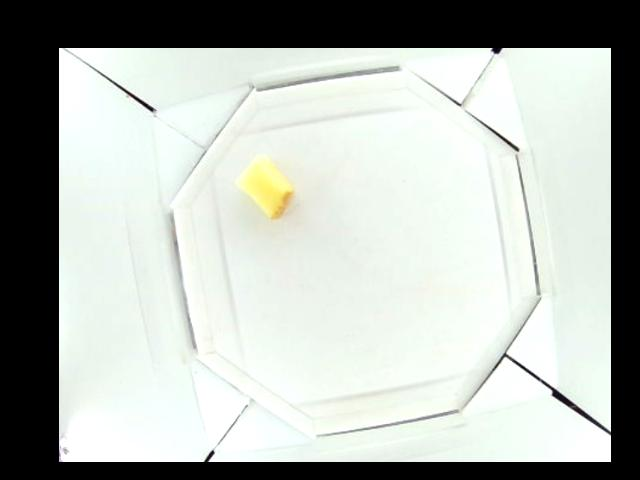Potato: (239, 157, 293, 217)
